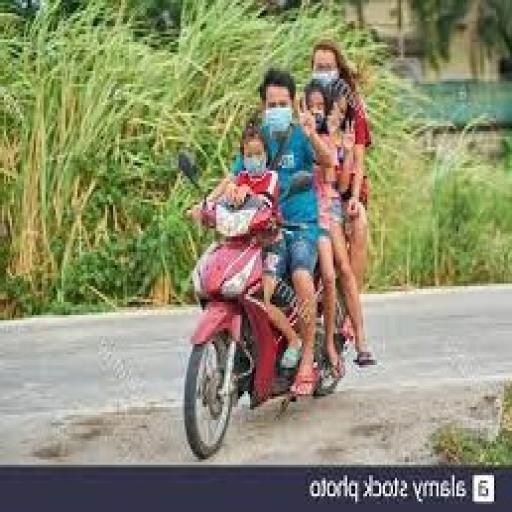overloading: (171, 144, 349, 457)
